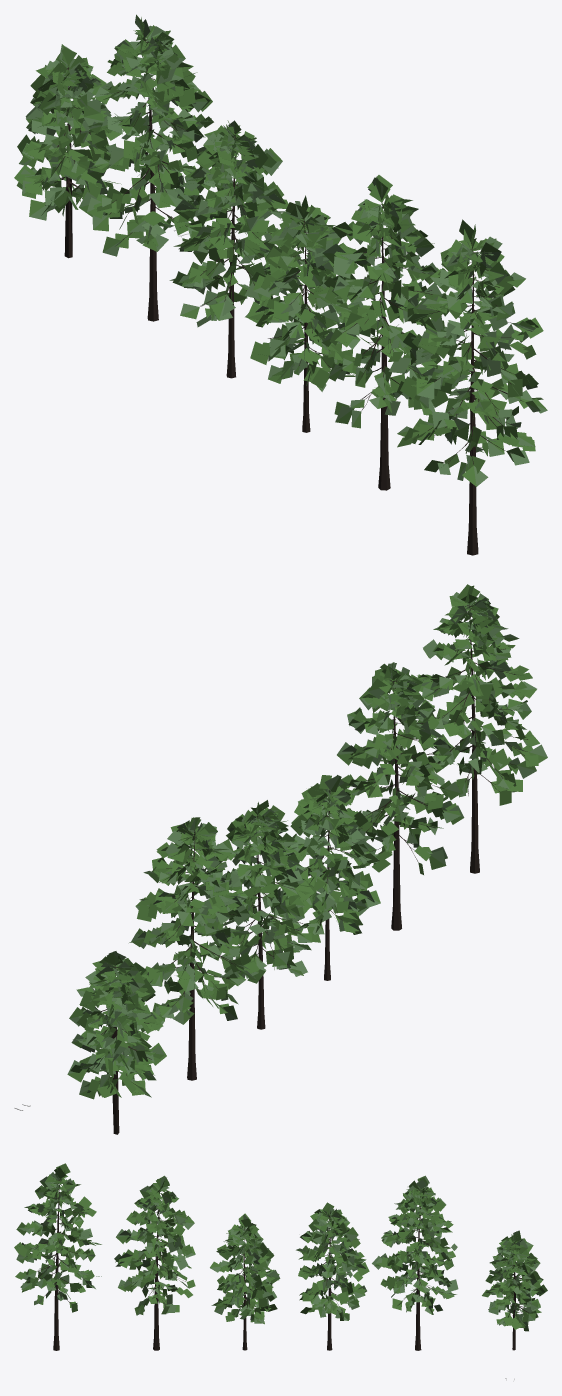
File: Trees.fbx
The picture shows the model from 3 angles, top to bottom: view 1: azimuth 30°, elevation 25°; view 2: azimuth 150°, elevation 25°; view 3: azimuth 270°, elevation 25°; orthographic projection. The views are drawn at different scales.
Parts seen in each view (by area): view 1: leaves.004, leaves, leaves.003, leaves.001, leaves.002, leaves.005, Tree 5, Tree 4, Tree 1, Tree 2, Tree 3, Tree 6; view 2: leaves, leaves.004, leaves.003, leaves.001, leaves.005, leaves.002, Tree 5, Tree 4, Tree 1, Tree 2; view 3: leaves, leaves.004, leaves.003, leaves.001, leaves.002, leaves.005, Tree 5, Tree 4, Tree 1, Tree 2, Tree 3.
Part boxes in pixels (x1,y1,x2,y2): leaves.004: (397,219,547,486); leaves: (79,14,215,256); leaves.003: (311,175,448,428); leaves.001: (169,120,296,327); leaves.002: (245,195,362,391); leaves.005: (14,44,121,220); Tree 5: (419,243,526,555); Tree 4: (340,201,432,490); Tree 1: (109,33,201,321); Tree 2: (193,132,271,378); Tree 3: (268,219,336,432); Tree 6: (41,67,90,258); leaves: (129,817,259,1024); leaves.004: (417,584,547,805); leaves.003: (327,662,464,874); leaves.001: (207,800,314,983); leaves.005: (67,951,166,1099); leaves.002: (278,775,380,942); Tree 5: (431,603,527,873); Tree 4: (361,680,443,930); Tree 1: (158,830,235,1080); Tree 2: (227,815,302,1029); leaves: (372,1175,458,1314); leaves.004: (14,1163,101,1312); leaves.003: (114,1175,195,1315); leaves.001: (296,1202,369,1320); leaves.002: (210,1213,280,1324); leaves.005: (482,1230,547,1331); Tree 5: (26,1179,90,1350); Tree 4: (133,1188,185,1350); Tree 1: (390,1189,450,1350); Tree 2: (308,1214,352,1350); Tree 3: (221,1227,257,1350).
Bounding box in the file's own units: 3165 × 5330 × 13883.
